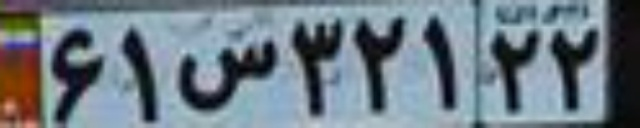1: (416, 16, 462, 107), (118, 28, 161, 121)
2: (353, 16, 408, 114), (549, 28, 603, 110), (492, 32, 541, 113)
3: (291, 17, 345, 115)
6: (48, 28, 105, 123)
sin: (177, 39, 276, 109)
